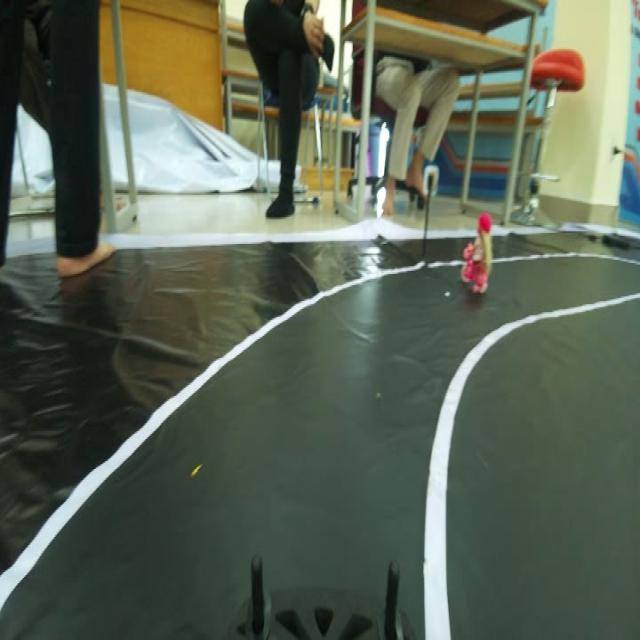pedestrian: (460, 210, 495, 305)
